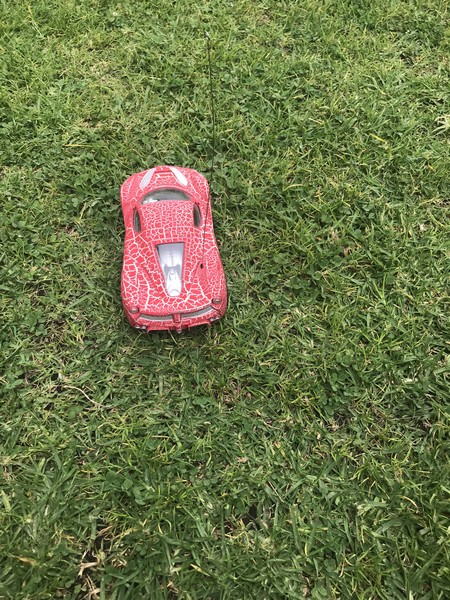RC: (118, 165, 230, 336)
